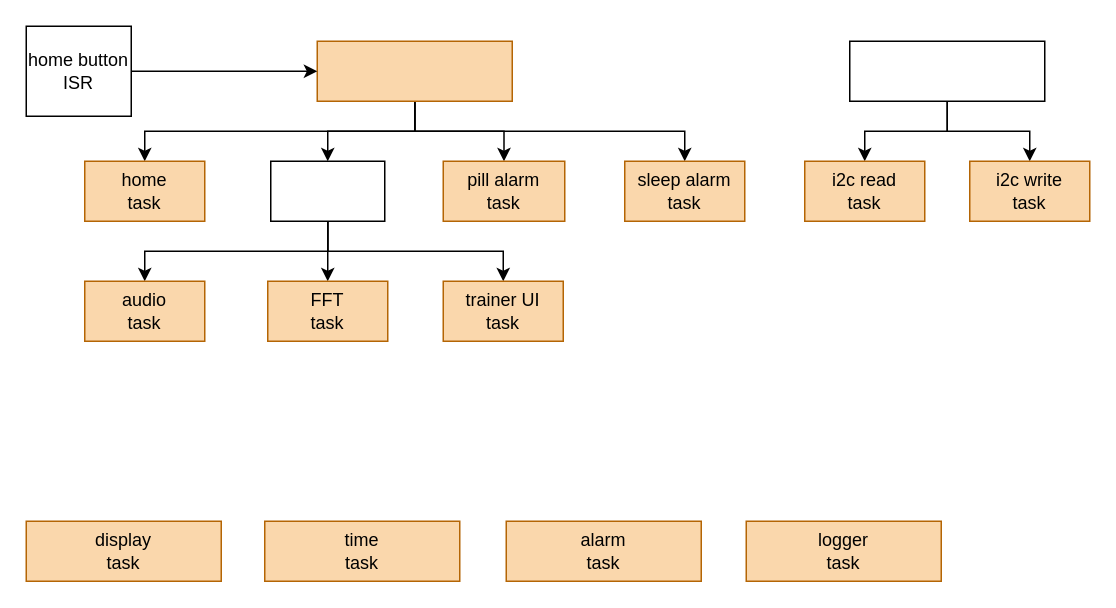
The diagram is 1116 pixels wide and 608 high, and some of its shapes have lost their labels. Each missing label, with the centre of its shape:
buttons IO: the point at 946,70
mode controller task: the point at 414,70
voice trainer (3 tasks): the point at 327,190
